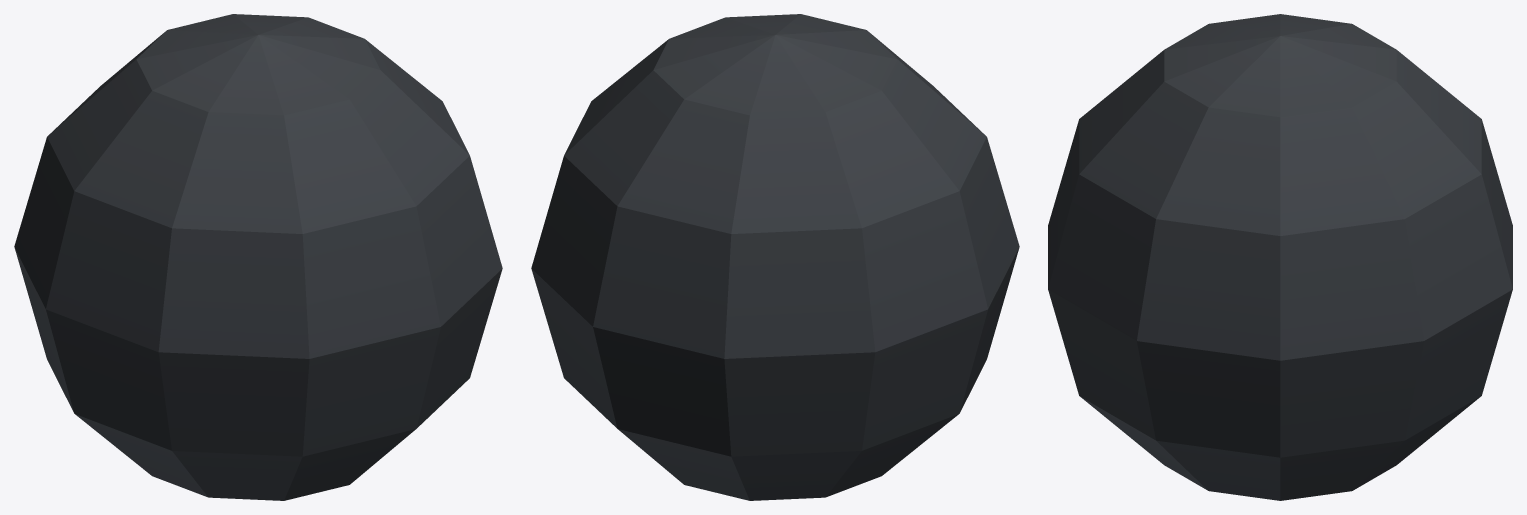
Rendered from Cannonball.fbx.
3 renders of one model, left to right at view 1: azimuth 30°, elevation 25°; view 2: azimuth 150°, elevation 25°; view 3: azimuth 270°, elevation 25°, orthographic.
Parts seen in each view (by area): view 1: cannonball; view 2: cannonball; view 3: cannonball.
Part boxes in pixels (x1,y1,x2,y2): cannonball: (14, 14, 502, 500); cannonball: (531, 14, 1019, 500); cannonball: (1048, 14, 1512, 500).
Bounding box in the file's own units: 40.23 × 40.23 × 38.26.
